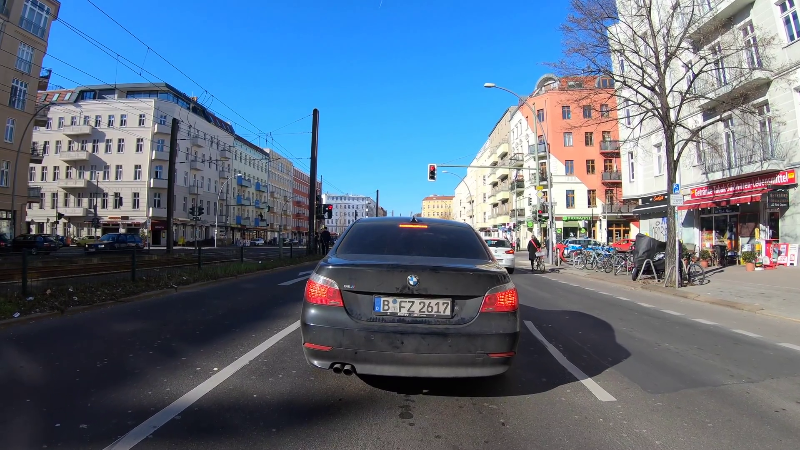Plate: (372, 296, 453, 318)
